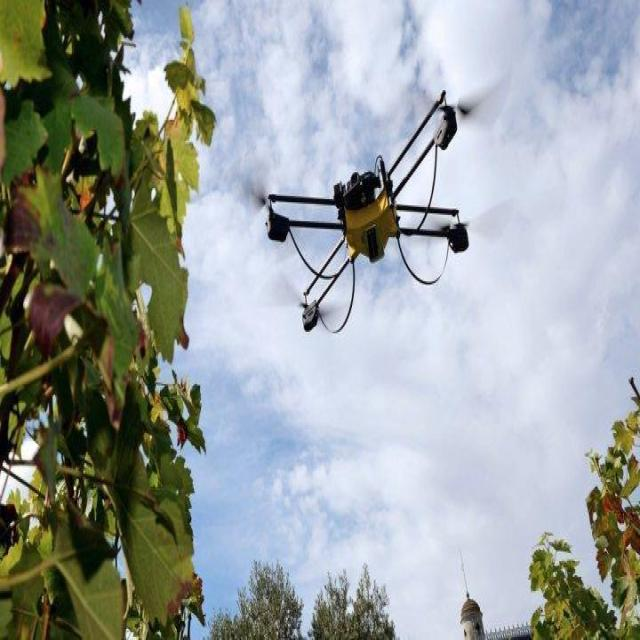drone: (263, 90, 471, 333)
